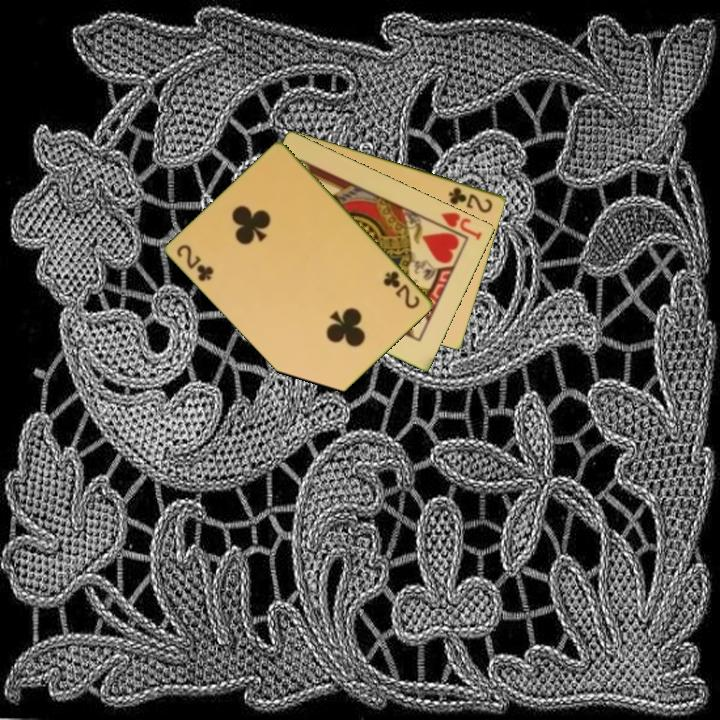2c: (380, 267, 423, 312), (174, 241, 217, 284), (445, 183, 496, 216)
Jh: (430, 208, 485, 243)
